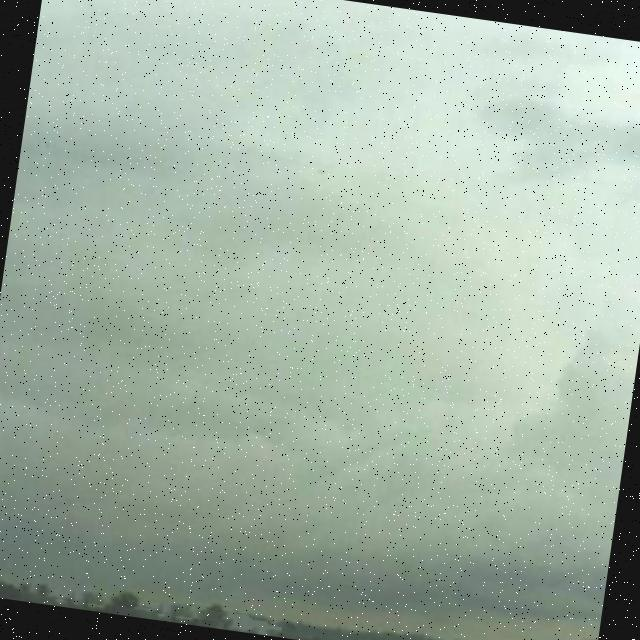Sc: (2, 1, 640, 531)
